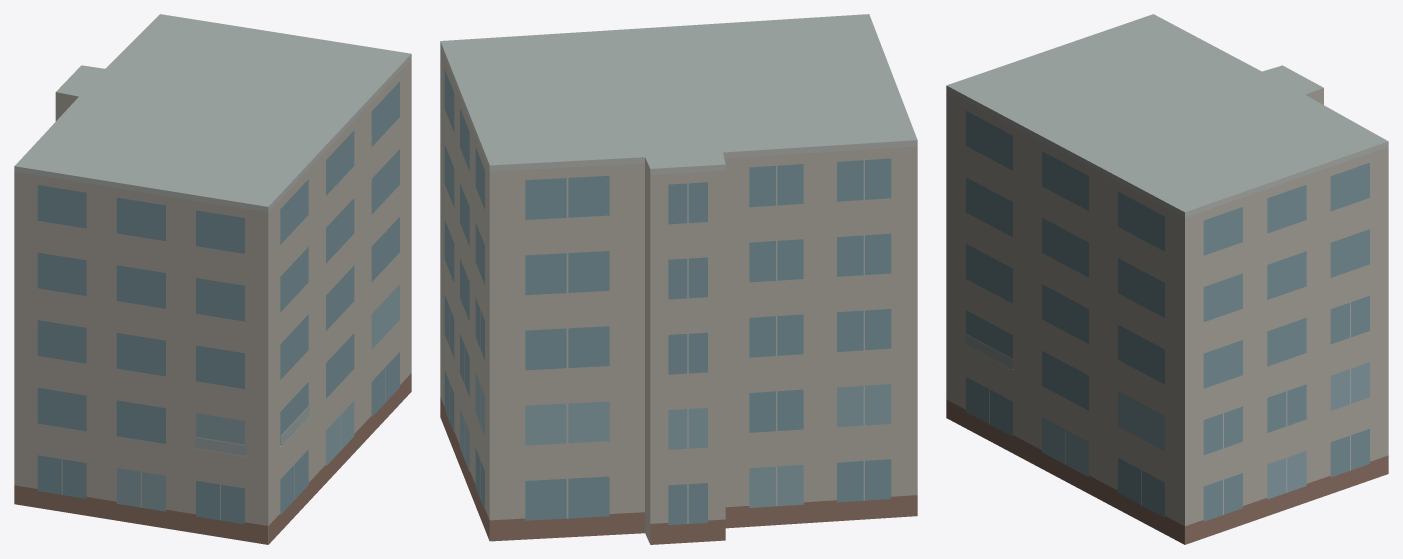
The model's file is survey-upis-33047288.glb.
3 views of the same model, side by side, from view 1: azimuth 30°, elevation 25°; view 2: azimuth 150°, elevation 25°; view 3: azimuth 270°, elevation 25° (orthographic). The views are drawn at different scales.
Parts seen in each view (by area): view 1: survey-upis-33047288.tmp; view 2: survey-upis-33047288.tmp; view 3: survey-upis-33047288.tmp.
Boxes of the visible parts, x1,y1,x2,y2 form: survey-upis-33047288.tmp: [14, 14, 411, 544]; survey-upis-33047288.tmp: [440, 14, 917, 544]; survey-upis-33047288.tmp: [946, 14, 1388, 544].
Size of the model in its own units: 19.26 by 15.05 by 18.15.
